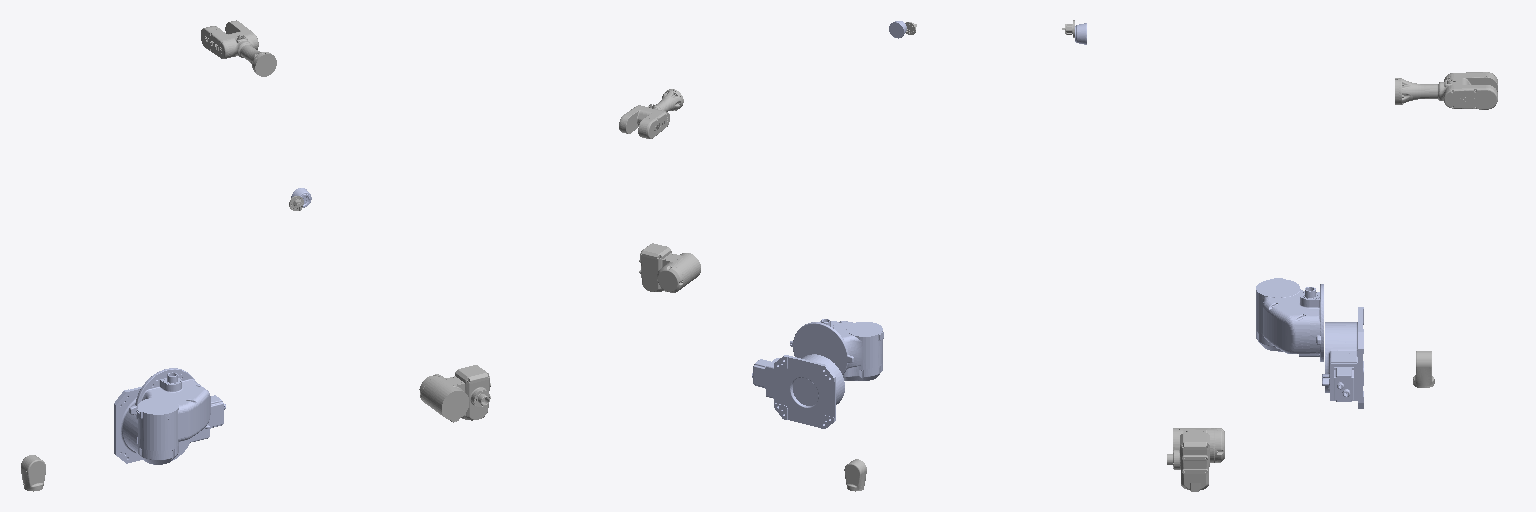
robot.urdf — BRTIRUS1510A10:
<?xml version="1.0" encoding="utf-8"?>
<!-- This URDF was automatically created by SolidWorks to URDF Exporter! Originally created by [author] ([email redacted]) 
     Commit Version: 1.6.0-1-g15f4949  Build Version: 1.6.7594.29634
     For more information, please see http://wiki.ros.org/sw_urdf_exporter -->
<robot
  name="BRTIRUS1510A10">
  <link
    name="base_link">
    <inertial>
      <origin
        xyz="0 0 0"
        rpy="0 0 0" />
      <mass
        value="0" />
      <inertia
        ixx="0"
        ixy="0"
        ixz="0"
        iyy="0"
        iyz="0"
        izz="0" />
    </inertial>
    <visual>
      <origin
        xyz="0 0 0"
        rpy="0 0 0" />
      <geometry>
        <mesh
          filename="package://BRTIRUS1510A10/meshes/base_link.STL" />
      </geometry>
      <material
        name="">
        <color
          rgba="0.79216 0.81961 0.93333 1" />
      </material>
    </visual>
    <collision>
      <origin
        xyz="0 0 0"
        rpy="0 0 0" />
      <geometry>
        <mesh
          filename="package://BRTIRUS1510A10/meshes/base_link.STL" />
      </geometry>
    </collision>
  </link>
  <link
    name="Link_1">
    <inertial>
      <origin
        xyz="0 0 0"
        rpy="0 0 0" />
      <mass
        value="0" />
      <inertia
        ixx="0"
        ixy="0"
        ixz="0"
        iyy="0"
        iyz="0"
        izz="0" />
    </inertial>
    <visual>
      <origin
        xyz="0 0 0"
        rpy="0 0 0" />
      <geometry>
        <mesh
          filename="package://BRTIRUS1510A10/meshes/Link_1.STL" />
      </geometry>
      <material
        name="">
        <color
          rgba="0.79216 0.81961 0.93333 1" />
      </material>
    </visual>
    <collision>
      <origin
        xyz="0 0 0"
        rpy="0 0 0" />
      <geometry>
        <mesh
          filename="package://BRTIRUS1510A10/meshes/Link_1.STL" />
      </geometry>
    </collision>
  </link>
  <joint
    name="Jonit_1"
    type="revolute">
    <origin
      xyz="0 0 0.178"
      rpy="0 0 0" />
    <parent
      link="base_link" />
    <child
      link="Link_1" />
    <axis
      xyz="0 0 1" />
    <limit
      lower="-2.8798"
      upper="2.8798"
      effort="0"
      velocity="0" />
  </joint>
  <link
    name="Link_2">
    <inertial>
      <origin
        xyz="0 0 0"
        rpy="0 0 0" />
      <mass
        value="0" />
      <inertia
        ixx="0"
        ixy="0"
        ixz="0"
        iyy="0"
        iyz="0"
        izz="0" />
    </inertial>
    <visual>
      <origin
        xyz="0 0 0"
        rpy="0 0 0" />
      <geometry>
        <mesh
          filename="package://BRTIRUS1510A10/meshes/Link_2.STL" />
      </geometry>
      <material
        name="">
        <color
          rgba="0.75294 0.75294 0.75294 1" />
      </material>
    </visual>
    <collision>
      <origin
        xyz="0 0 0"
        rpy="0 0 0" />
      <geometry>
        <mesh
          filename="package://BRTIRUS1510A10/meshes/Link_2.STL" />
      </geometry>
    </collision>
  </link>
  <joint
    name="Joint_2"
    type="revolute">
    <origin
      xyz="0.16933 -0.1045 0.21503"
      rpy="1.5708 -1.5708 0" />
    <parent
      link="Link_1" />
    <child
      link="Link_2" />
    <axis
      xyz="0 0 -1" />
    <limit
      lower="-1.6581"
      upper="1.2217"
      effort="0"
      velocity="0" />
  </joint>
  <link
    name="Link_3">
    <inertial>
      <origin
        xyz="0 0 0"
        rpy="0 0 0" />
      <mass
        value="0" />
      <inertia
        ixx="0"
        ixy="0"
        ixz="0"
        iyy="0"
        iyz="0"
        izz="0" />
    </inertial>
    <visual>
      <origin
        xyz="0 0 0"
        rpy="0 0 0" />
      <geometry>
        <mesh
          filename="package://BRTIRUS1510A10/meshes/Link_3.STL" />
      </geometry>
      <material
        name="">
        <color
          rgba="0.75294 0.75294 0.75294 1" />
      </material>
    </visual>
    <collision>
      <origin
        xyz="0 0 0"
        rpy="0 0 0" />
      <geometry>
        <mesh
          filename="package://BRTIRUS1510A10/meshes/Link_3.STL" />
      </geometry>
    </collision>
  </link>
  <joint
    name="Jonit_3"
    type="revolute">
    <origin
      xyz="0.65 0 -0.001"
      rpy="0 0 0" />
    <parent
      link="Link_2" />
    <child
      link="Link_3" />
    <axis
      xyz="0 0 -1" />
    <limit
      lower="-1.4835"
      upper="1.6581"
      effort="0"
      velocity="0" />
  </joint>
  <link
    name="Link_4">
    <inertial>
      <origin
        xyz="0 0 0"
        rpy="0 0 0" />
      <mass
        value="0" />
      <inertia
        ixx="0"
        ixy="0"
        ixz="0"
        iyy="0"
        iyz="0"
        izz="0" />
    </inertial>
    <visual>
      <origin
        xyz="0 0 0"
        rpy="0 0 0" />
      <geometry>
        <mesh
          filename="package://BRTIRUS1510A10/meshes/Link_4.STL" />
      </geometry>
      <material
        name="">
        <color
          rgba="0.75294 0.75294 0.75294 1" />
      </material>
    </visual>
    <collision>
      <origin
        xyz="0 0 0"
        rpy="0 0 0" />
      <geometry>
        <mesh
          filename="package://BRTIRUS1510A10/meshes/Link_4.STL" />
      </geometry>
    </collision>
  </link>
  <joint
    name="Joint_4"
    type="revolute">
    <origin
      xyz="0.15574 0.1319 0.1035"
      rpy="1.5708 -1.5708 0" />
    <parent
      link="Link_3" />
    <child
      link="Link_4" />
    <axis
      xyz="0 0 -1" />
    <limit
      lower="-3.1416"
      upper="3.1416"
      effort="0"
      velocity="0" />
  </joint>
  <link
    name="Link_5">
    <inertial>
      <origin
        xyz="0 0 0"
        rpy="0 0 0" />
      <mass
        value="0" />
      <inertia
        ixx="0"
        ixy="0"
        ixz="0"
        iyy="0"
        iyz="0"
        izz="0" />
    </inertial>
    <visual>
      <origin
        xyz="0 0 0"
        rpy="0 0 0" />
      <geometry>
        <mesh
          filename="package://BRTIRUS1510A10/meshes/Link_5.STL" />
      </geometry>
      <material
        name="">
        <color
          rgba="0.75294 0.75294 0.75294 1" />
      </material>
    </visual>
    <collision>
      <origin
        xyz="0 0 0"
        rpy="0 0 0" />
      <geometry>
        <mesh
          filename="package://BRTIRUS1510A10/meshes/Link_5.STL" />
      </geometry>
    </collision>
  </link>
  <joint
    name="Joint_5"
    type="revolute">
    <origin
      xyz="0.002 0 0.424"
      rpy="1.5708 0 -1.5708" />
    <parent
      link="Link_4" />
    <child
      link="Link_5" />
    <axis
      xyz="0 0 1" />
    <limit
      lower="-2.0071"
      upper="2.0071"
      effort="0"
      velocity="0" />
  </joint>
  <link
    name="Link_6">
    <inertial>
      <origin
        xyz="0 0 0"
        rpy="0 0 0" />
      <mass
        value="0" />
      <inertia
        ixx="0"
        ixy="0"
        ixz="0"
        iyy="0"
        iyz="0"
        izz="0" />
    </inertial>
    <visual>
      <origin
        xyz="0 0 0"
        rpy="0 0 0" />
      <geometry>
        <mesh
          filename="package://BRTIRUS1510A10/meshes/Link_6.STL" />
      </geometry>
      <material
        name="">
        <color
          rgba="0.79216 0.81961 0.93333 1" />
      </material>
    </visual>
    <collision>
      <origin
        xyz="0 0 0"
        rpy="0 0 0" />
      <geometry>
        <mesh
          filename="package://BRTIRUS1510A10/meshes/Link_6.STL" />
      </geometry>
    </collision>
  </link>
  <joint
    name="Joint_6"
    type="revolute">
    <origin
      xyz="0 0.111 0"
      rpy="1.5708 -1.5708 0" />
    <parent
      link="Link_5" />
    <child
      link="Link_6" />
    <axis
      xyz="0 0 1" />
    <limit
      lower="-6.2832"
      upper="6.2832"
      effort="0"
      velocity="0" />
  </joint>
  <link
    name="Link_last">
    <inertial>
      <origin
        xyz="1.4251E-08 3.3982E-05 0.0067938"
        rpy="0 0 0" />
      <mass
        value="0.046343" />
      <inertia
        ixx="1.963E-05"
        ixy="3.1365E-07"
        ixz="-5.514E-12"
        iyy="1.8996E-05"
        iyz="-4.4446E-09"
        izz="3.727E-05" />
    </inertial>
    <visual>
      <origin
        xyz="0 0 0"
        rpy="0 0 0" />
      <geometry>
        <mesh
          filename="package://BRTIRUS1510A10/meshes/Link_last.STL" />
      </geometry>
      <material
        name="">
        <color
          rgba="0.75294 0.75294 0.75294 1" />
      </material>
    </visual>
    <collision>
      <origin
        xyz="0 0 0"
        rpy="0 0 0" />
      <geometry>
        <mesh
          filename="package://BRTIRUS1510A10/meshes/Link_last.STL" />
      </geometry>
    </collision>
  </link>
  <joint
    name="Joint_last"
    type="revolute">
    <origin
      xyz="0 0 0.054"
      rpy="0 0 0" />
    <parent
      link="Link_6" />
    <child
      link="Link_last" />
    <axis
      xyz="0 0 -1" />
    <limit
      lower="-6.2832"
      upper="6.2832"
      effort="0"
      velocity="0" />
  </joint>
</robot>

--- What the picture shows (computed from the rendered views, not written in the file) ---
3 views of the same robot in one strip: view 1: azimuth 30°, elevation 25°; view 2: azimuth 150°, elevation 25°; view 3: azimuth 270°, elevation 25° (orthographic).
Robot: BRTIRUS1510A10 — 8 links, 7 joints (7 revolute); root link base_link; default pose: every joint at zero.
Links seen in each view (by area): view 1: Link_1, Link_3, base_link, Link_4, Link_5; view 2: base_link, Link_1, Link_3, Link_4, Link_5; view 3: Link_1, base_link, Link_4, Link_3, Link_5.
Link boxes in pixels (x1,y1,x2,y2): Link_1: (129, 368, 210, 464); Link_3: (419, 365, 490, 422); base_link: (114, 387, 225, 463); Link_4: (201, 20, 276, 76); Link_5: (21, 455, 45, 491); base_link: (752, 354, 844, 428); Link_1: (790, 319, 883, 380); Link_3: (639, 243, 700, 292); Link_4: (619, 89, 683, 138); Link_5: (844, 459, 866, 491); Link_1: (1256, 278, 1323, 361); base_link: (1322, 307, 1363, 408); Link_4: (1395, 72, 1497, 109); Link_3: (1167, 428, 1224, 491); Link_5: (1413, 351, 1434, 387).
Bounding box of the posed robot: 2.06 × 2.03 × 2.16 m (x, y, z).
Meshes: 8 distinct files referenced, 7 mesh visuals loaded (7 binary STL); not drawn: 1 (reference not matched to a file when rendering).
